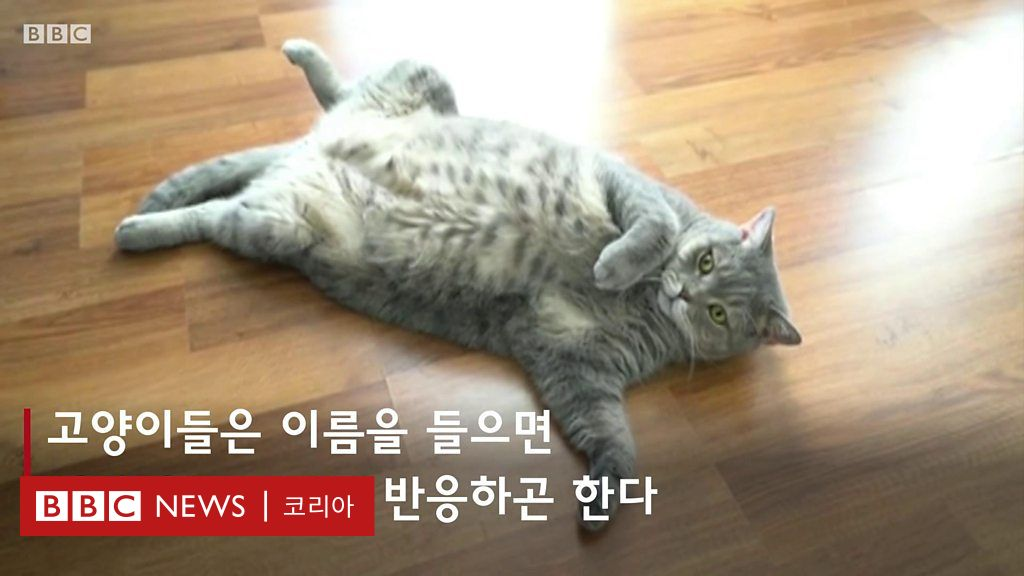cat: (105, 32, 802, 537)
cat-face: (648, 198, 805, 369)
